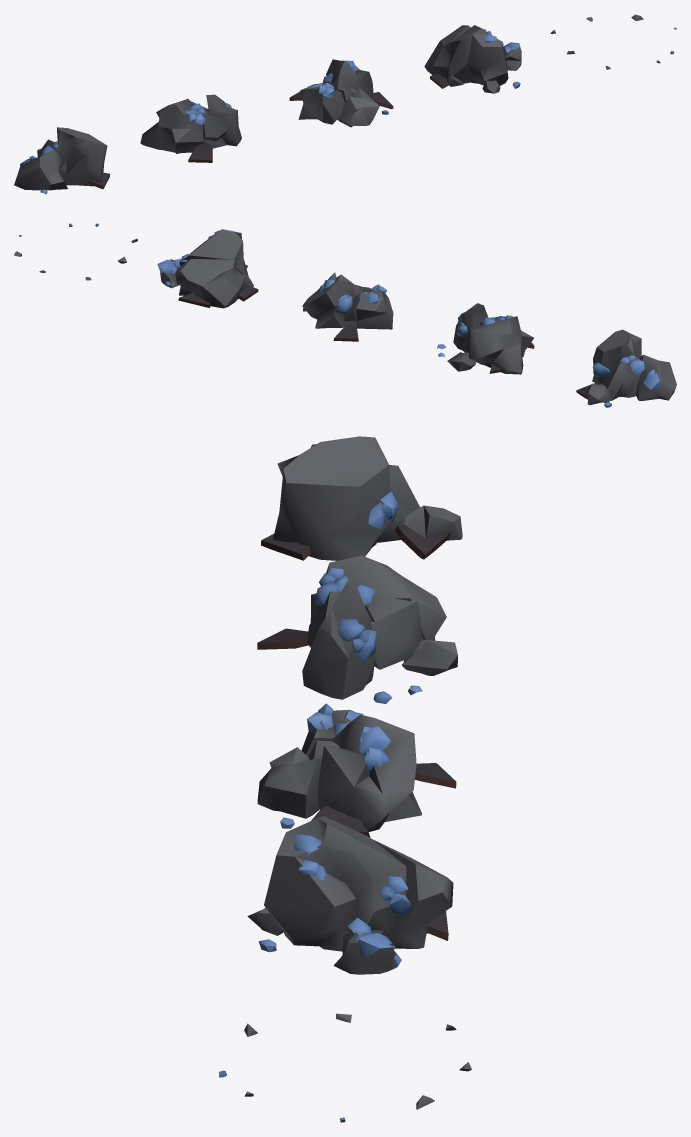
Rendered from dep_iron.glb.
The picture shows the model from 3 angles, top to bottom: view 1: azimuth 30°, elevation 25°; view 2: azimuth 150°, elevation 25°; view 3: azimuth 270°, elevation 25°; orthographic projection. The views are drawn at different scales.
Visible parts, largest first — view 1: v3, v1, v0, v2; view 2: v3, v0, v1, v2; view 3: v3, v1, v0, v2.
Part boxes in pixels (x1,y1,x2,y2): v3: (424,25,521,93); v1: (140,94,241,162); v0: (14,127,110,194); v2: (289,59,393,127); v3: (157,229,258,308); v0: (576,329,676,407); v1: (437,303,534,374); v2: (302,272,393,341); v3: (247,816,453,974); v1: (257,555,457,703); v0: (261,436,462,560); v2: (257,703,456,837).
Bounding box in the file's own units: 10.96 × 0.8413 × 1.83.
